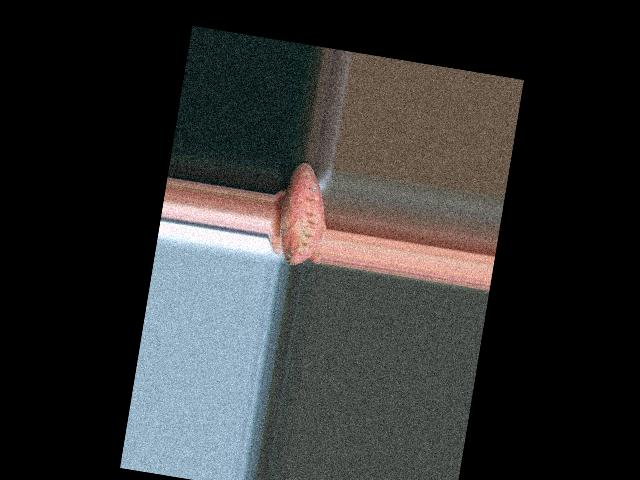sweet_potato: (277, 161, 330, 268)
